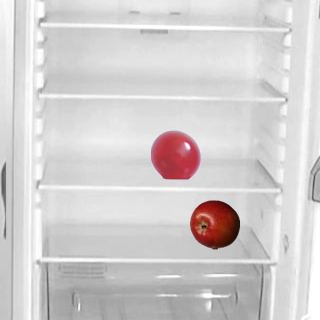Apple Braeburn: (189, 199, 239, 249)
Redcurrant: (150, 129, 200, 179)
